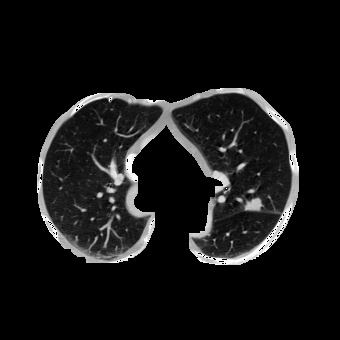PN: (247, 198, 261, 212)
